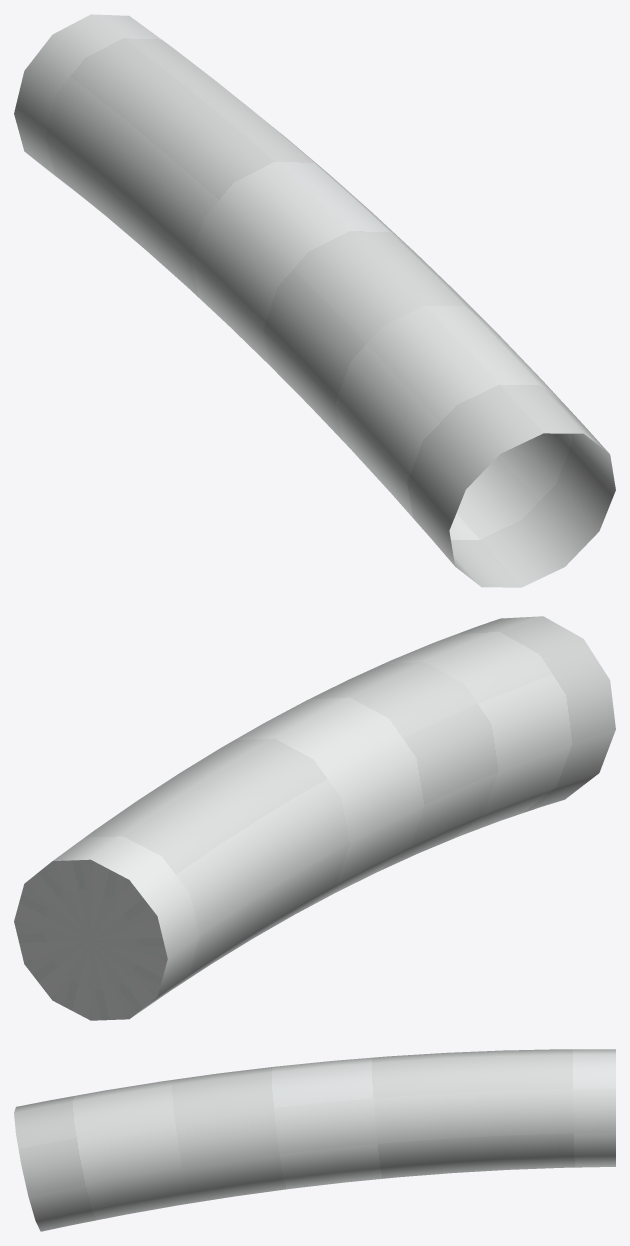
Rendered from luminairearm_anaheim8ft_c4.obj.
3 renders of one model, top to bottom at view 1: azimuth 30°, elevation 25°; view 2: azimuth 150°, elevation 25°; view 3: azimuth 270°, elevation 25°, orthographic. The views are drawn at different scales.
Parts seen in each view (by area): view 1: luminairearm_anaheim8ft_c4; view 2: luminairearm_anaheim8ft_c4; view 3: luminairearm_anaheim8ft_c4.
Part boxes in pixels (bbox=[...]): luminairearm_anaheim8ft_c4: bbox=[14, 14, 615, 587]; luminairearm_anaheim8ft_c4: bbox=[14, 616, 615, 1020]; luminairearm_anaheim8ft_c4: bbox=[14, 1049, 615, 1231].
Bounding box in the file's own units: 0.1624 × 0.2401 × 0.7644.
